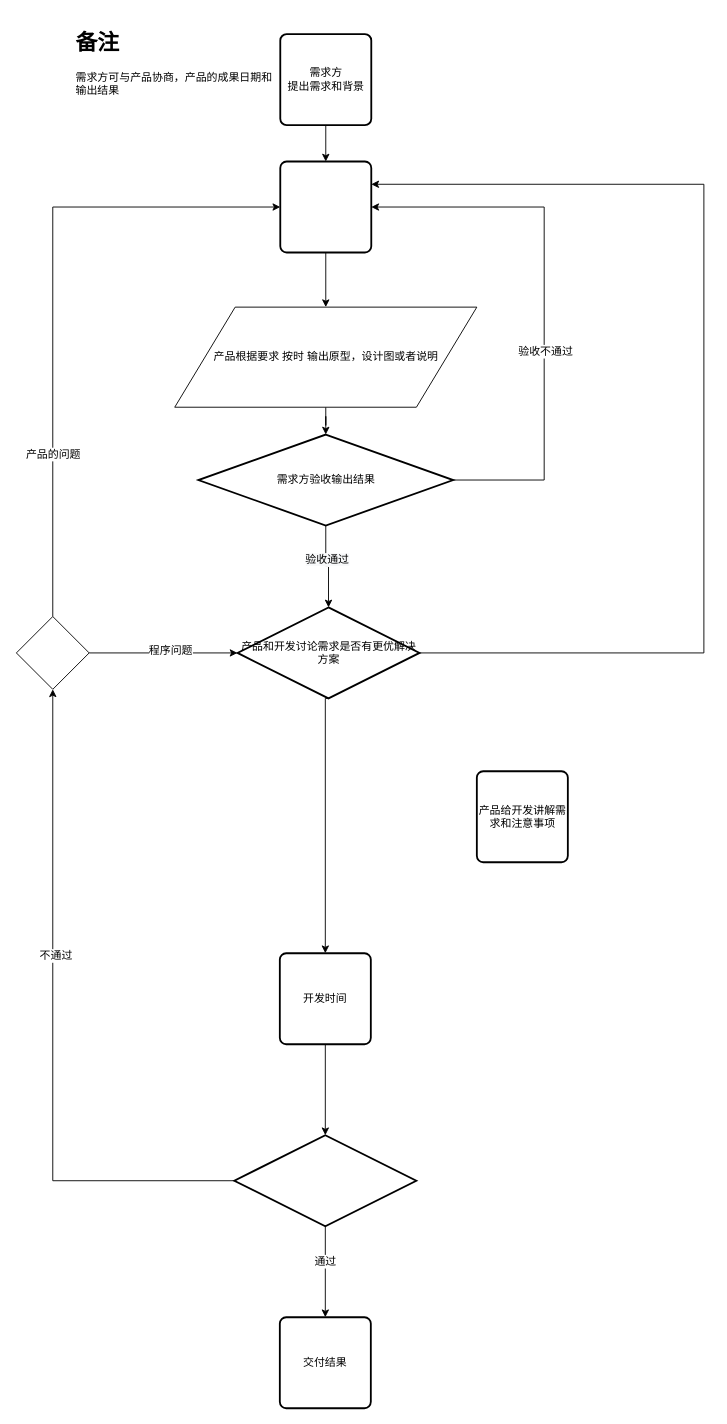
Some shapes in this 727 by 1424 pixel diagram are drawn without their labels. Here are the shapes that lost their labels. From the top down, the centre of each, then its label:
At [325,206]: "产品整理需求 1. 解决痛点 2. 用户体验".
At [52,652]: "不通过原因".
At [325,1180]: "需求方，产品验收结果".
